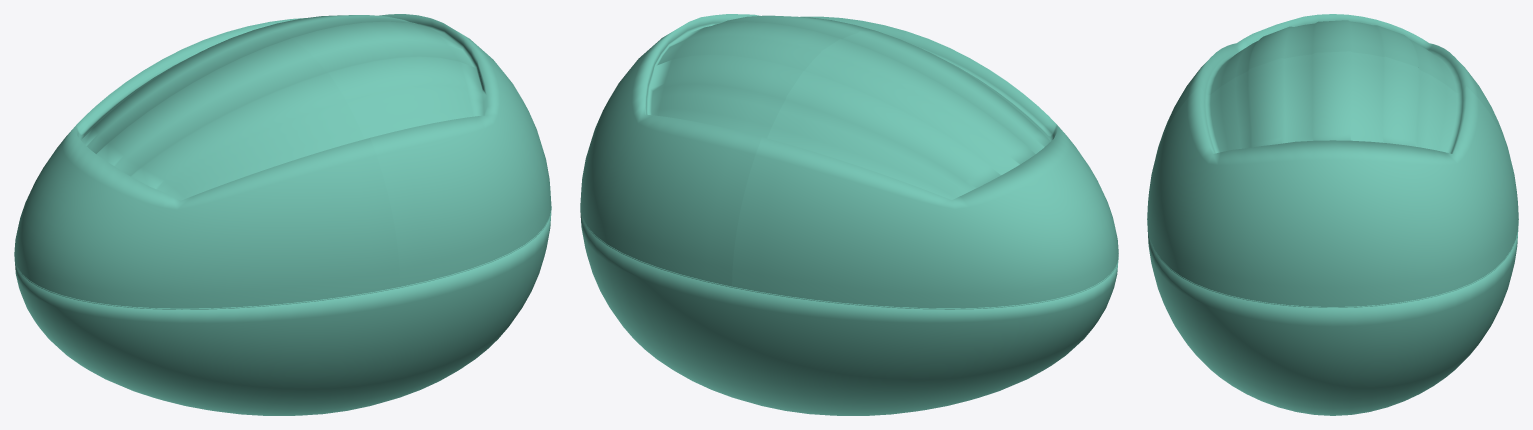
The model's file is Slime Egg Simulation.fbx.
3 views of the same model, side by side, from view 1: azimuth 30°, elevation 25°; view 2: azimuth 150°, elevation 25°; view 3: azimuth 270°, elevation 25° (orthographic). The views are drawn at different scales.
Visible parts, largest first — view 1: Slime Egg 1.005, Slime Egg 1.003, Slime Egg 1.004; view 2: Slime Egg 1.005, Slime Egg 1.003, Slime Egg 1.004; view 3: Slime Egg 1.004, Slime Egg 1.003, Slime Egg 1.005.
Boxes of the visible parts, x1,y1,x2,y2 form: Slime Egg 1.005: (14, 30, 399, 309); Slime Egg 1.003: (14, 206, 551, 415); Slime Egg 1.004: (226, 14, 551, 287); Slime Egg 1.005: (732, 31, 1118, 309); Slime Egg 1.003: (580, 210, 1118, 415); Slime Egg 1.004: (580, 14, 906, 287); Slime Egg 1.004: (1147, 51, 1518, 307); Slime Egg 1.003: (1147, 224, 1518, 415); Slime Egg 1.005: (1156, 14, 1509, 155).
Size of the model in its own units: 3.62 by 2.47 by 2.56.
